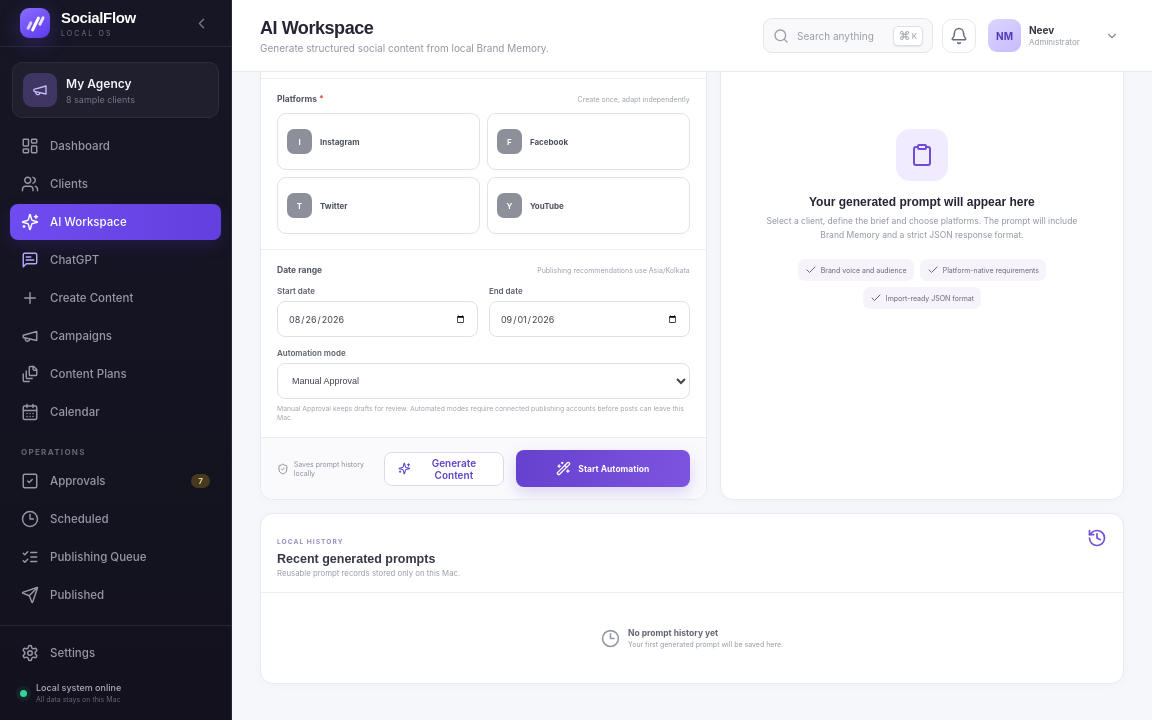
Test: Phase 3 AI Workspace › validates that a client is selected before generating
(page scrolled)
Click the button "Generate Content".
click(444, 468)  # box left=384, top=452, right=504, bottom=486
(page scrolled)
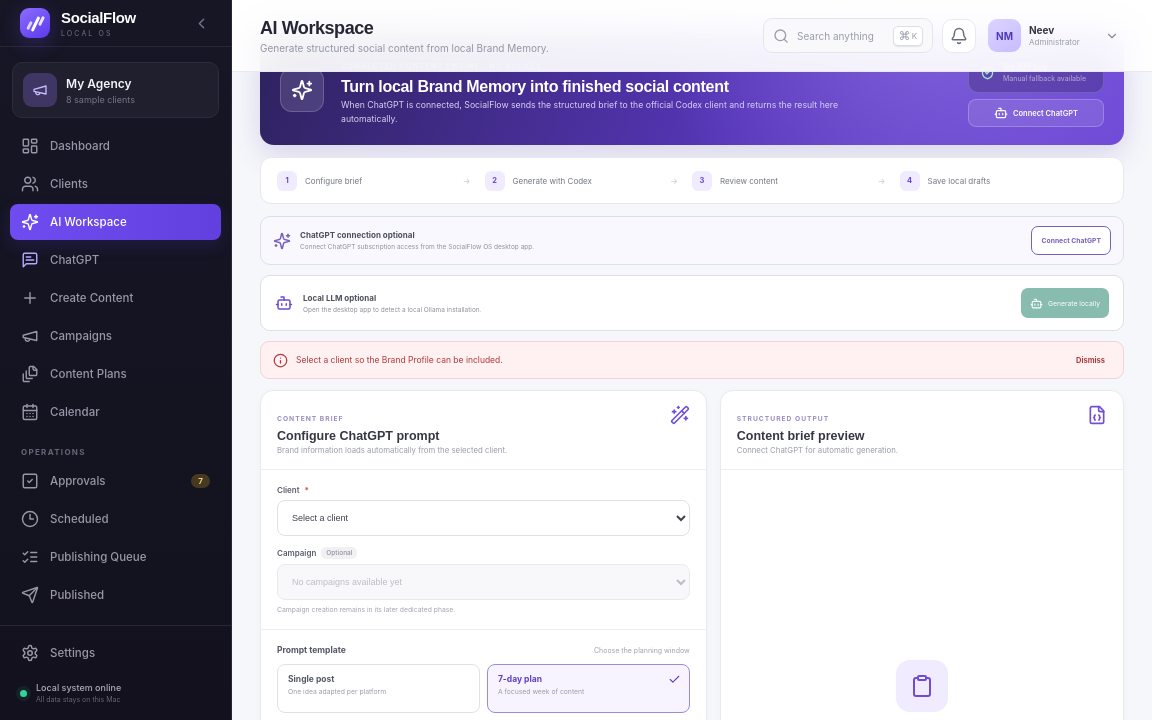
Check: the message shows "Select a client", box left=296, top=355, right=503, bottom=365
